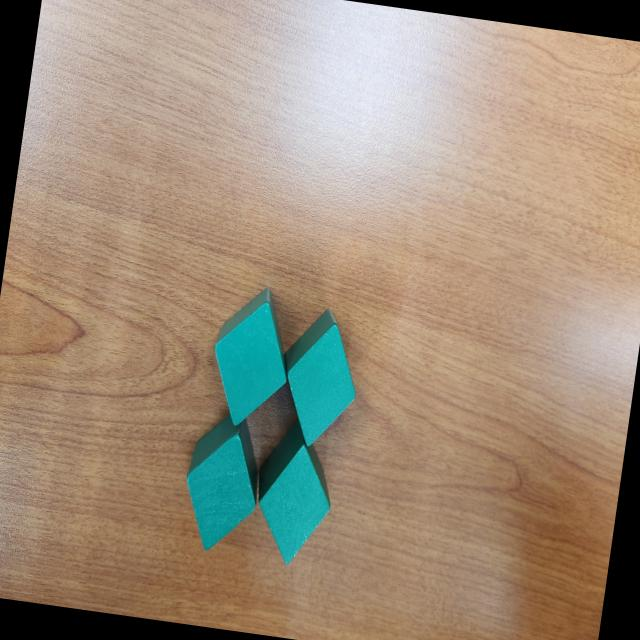green: (247, 414, 342, 568), (204, 281, 298, 435), (272, 305, 368, 451), (175, 410, 268, 557)
